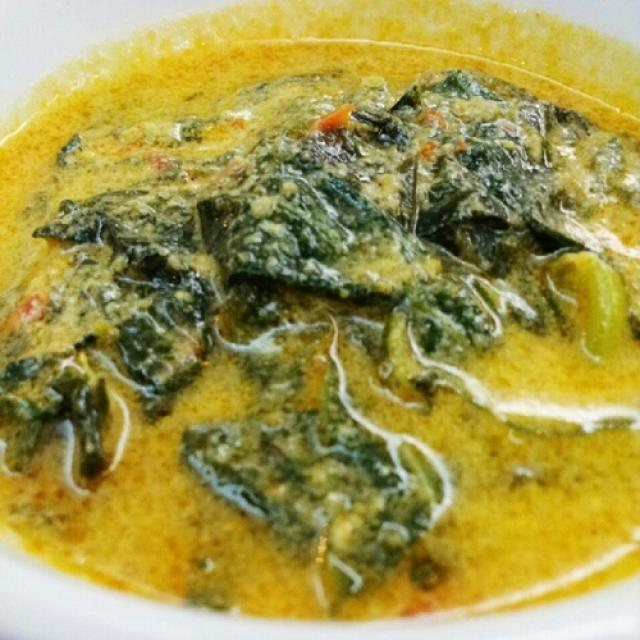熟制海鲜: (8, 13, 616, 608)
